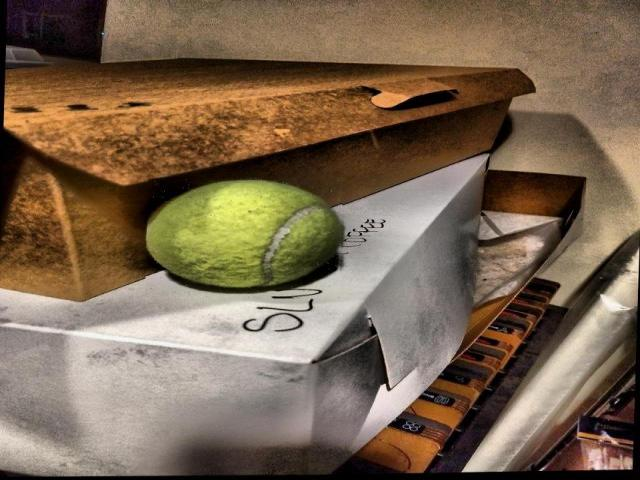tennis-ball: (146, 179, 344, 289)
